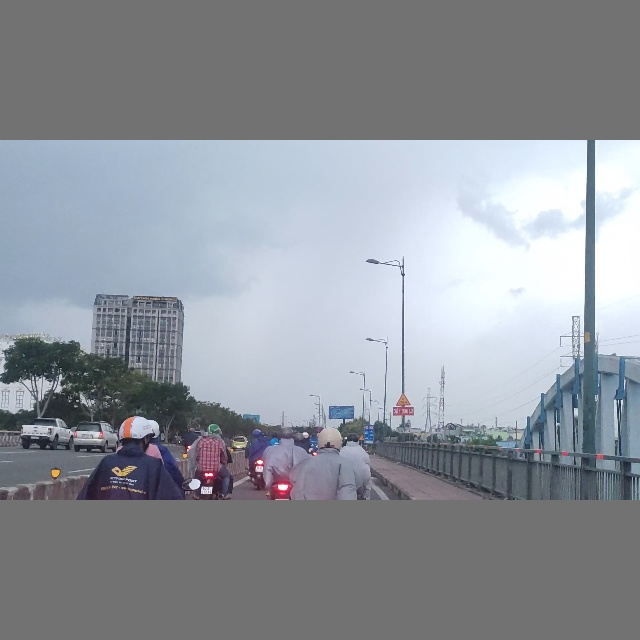W.201a: (358, 434, 365, 440)
W.245a: (395, 392, 412, 406)
